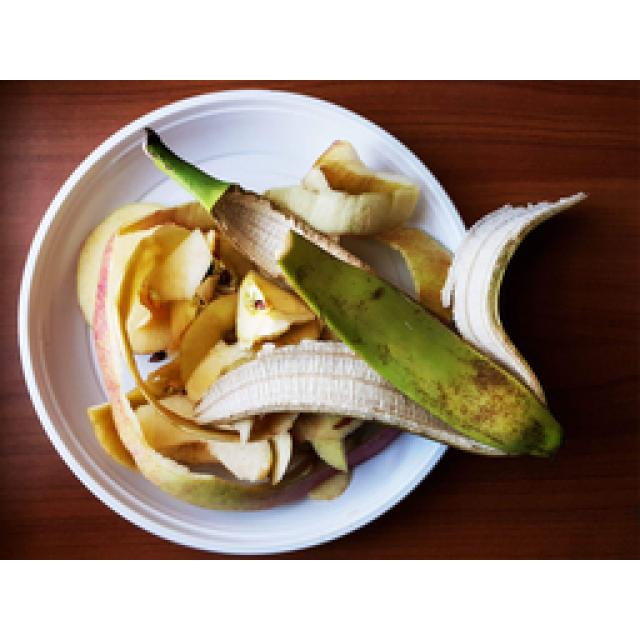food_waste: (78, 132, 582, 505)
